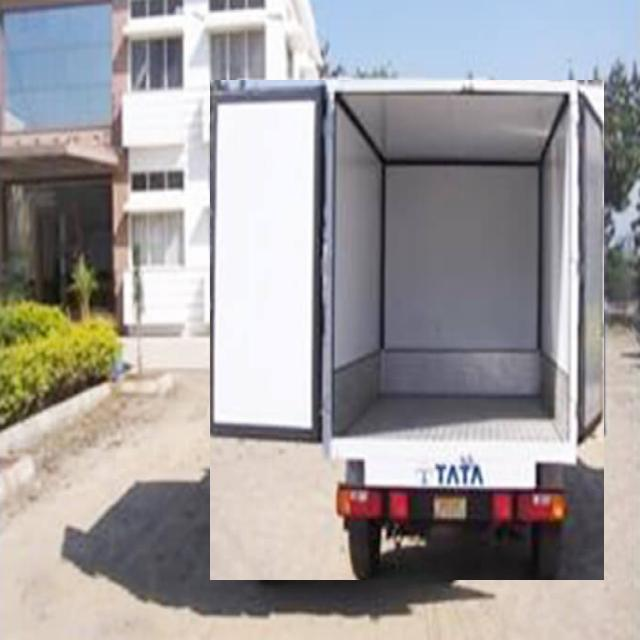truck: (210, 80, 604, 580)
